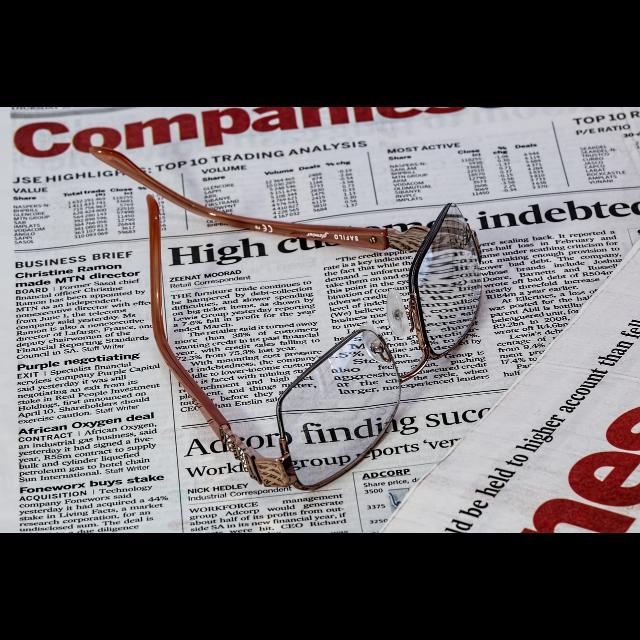glasses: (258, 196, 486, 492)
